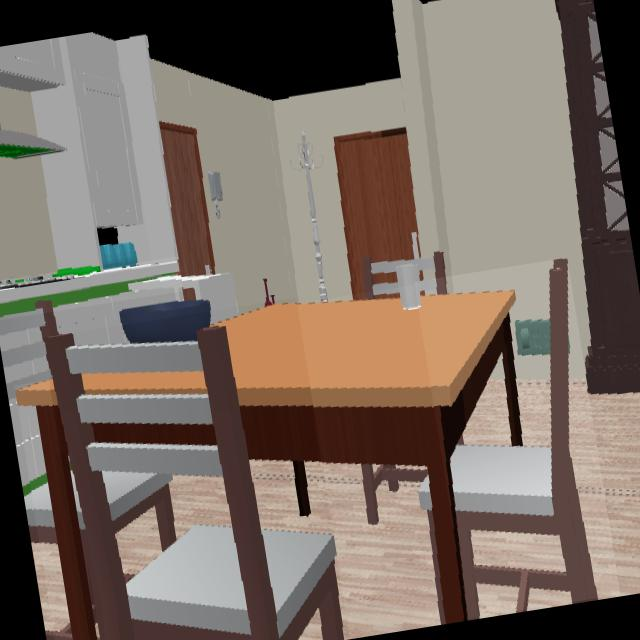bookshelf: (555, 0, 640, 394)
cabinet: (0, 32, 144, 271)
chair: (45, 328, 345, 640), (450, 260, 598, 620)
countertop: (0, 263, 181, 319)
stove: (0, 274, 90, 291)
table: (225, 294, 517, 624), (19, 381, 98, 640)
